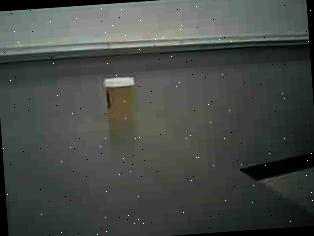Bottle B: (99, 70, 146, 132)
